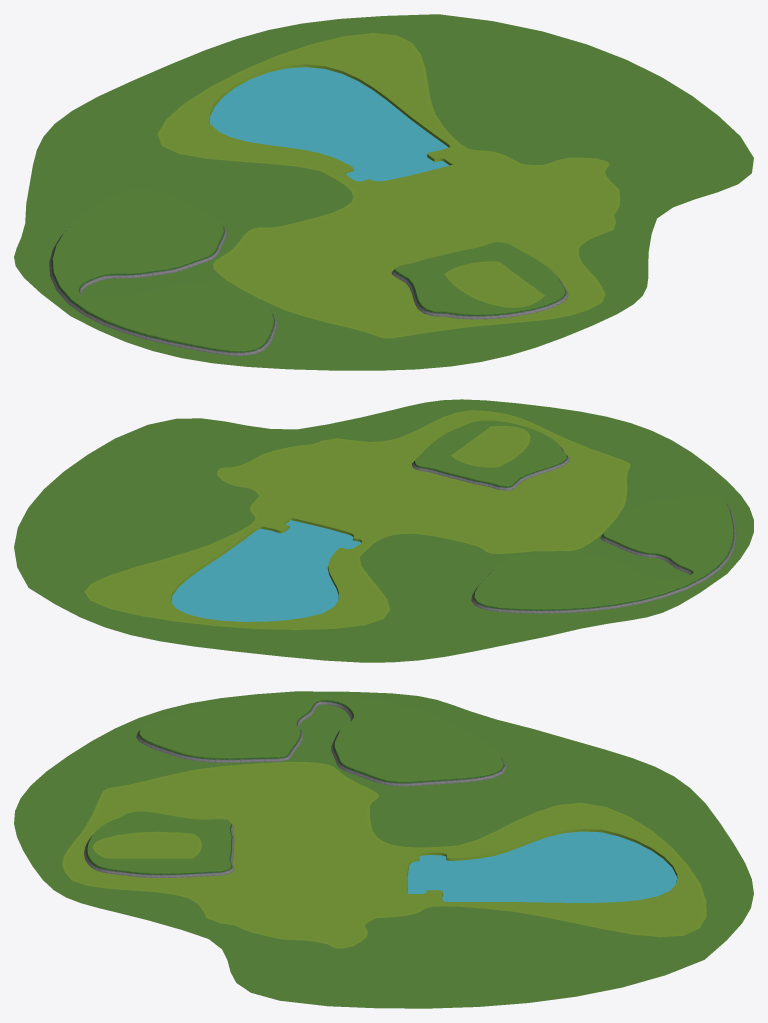
Rendered from Terrain.fbx.
The picture shows the model from 3 angles, top to bottom: view 1: azimuth 30°, elevation 25°; view 2: azimuth 150°, elevation 25°; view 3: azimuth 270°, elevation 25°; orthographic projection. The views are drawn at different scales.
Visible parts, largest first — view 1: OuterBorder, Inner, Cluster6, Cluster2, Cluster7, Cluster8; view 2: OuterBorder, Inner, Cluster6, Cluster2, Cluster7, Cluster8; view 3: OuterBorder, Inner, Cluster6, Cluster2, Cluster7, Cluster8.
Part boxes in pixels (left/top/right/bottom): OuterBorder: left=14, top=14, right=753, bottom=370; Inner: left=161, top=34, right=616, bottom=336; Cluster6: left=52, top=189, right=273, bottom=350; Cluster2: left=210, top=67, right=449, bottom=181; Cluster7: left=395, top=242, right=564, bottom=313; Cluster8: left=447, top=262, right=541, bottom=306; OuterBorder: left=14, top=399, right=753, bottom=662; Inner: left=87, top=411, right=627, bottom=628; Cluster6: left=474, top=495, right=733, bottom=608; Cluster2: left=171, top=520, right=360, bottom=621; Cluster7: left=415, top=420, right=566, bottom=485; Cluster8: left=454, top=427, right=527, bottom=466; OuterBorder: left=14, top=691, right=753, bottom=1008; Inner: left=65, top=763, right=703, bottom=947; Cluster6: left=139, top=694, right=503, bottom=781; Cluster2: left=407, top=831, right=676, bottom=902; Cluster7: left=87, top=811, right=231, bottom=872; Cluster8: left=96, top=833, right=198, bottom=857.
Size of the model in its own units: 179 by 1.99 by 177.
